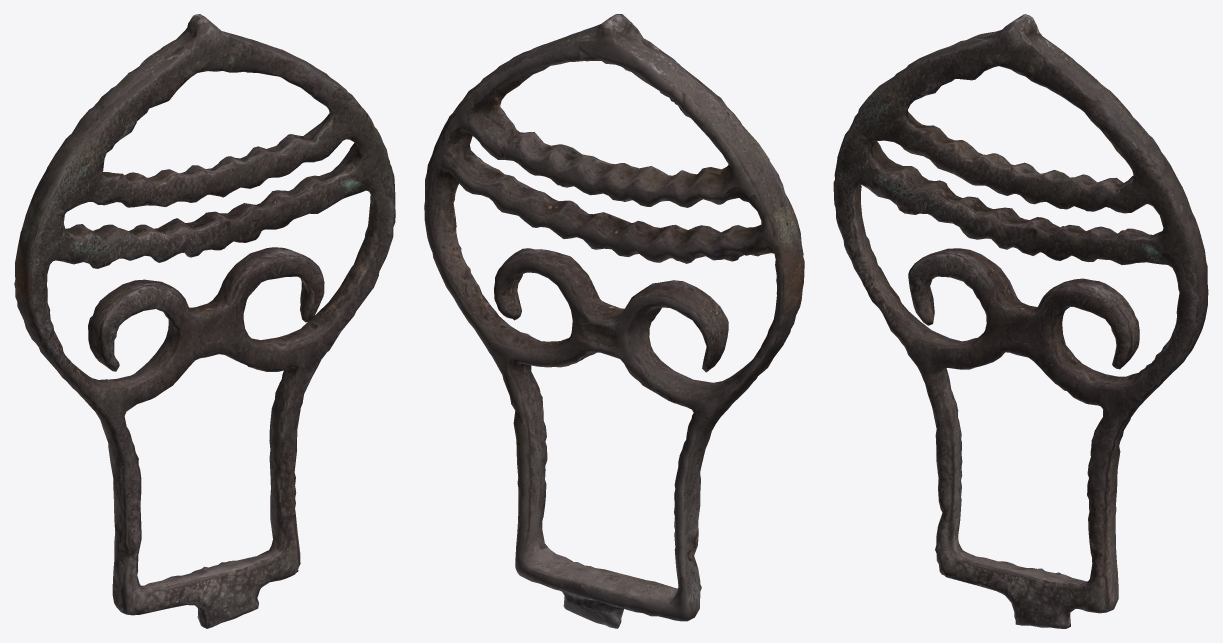
The model's file is buckle1_low_re-transformed.glb.
3 views of the same model, side by side, from view 1: azimuth 30°, elevation 25°; view 2: azimuth 150°, elevation 25°; view 3: azimuth 330°, elevation 25° (orthographic).
Parts seen in each view (by area): view 1: Model.001; view 2: Model.001; view 3: Model.001.
Boxes of the visible parts, bbox=[...] form: Model.001: bbox=[14, 14, 395, 628]; Model.001: bbox=[424, 14, 804, 628]; Model.001: bbox=[833, 14, 1208, 628].
Size of the model in its own units: 1.49 by 2.33 by 0.1446.
1 material, 1 textured.
